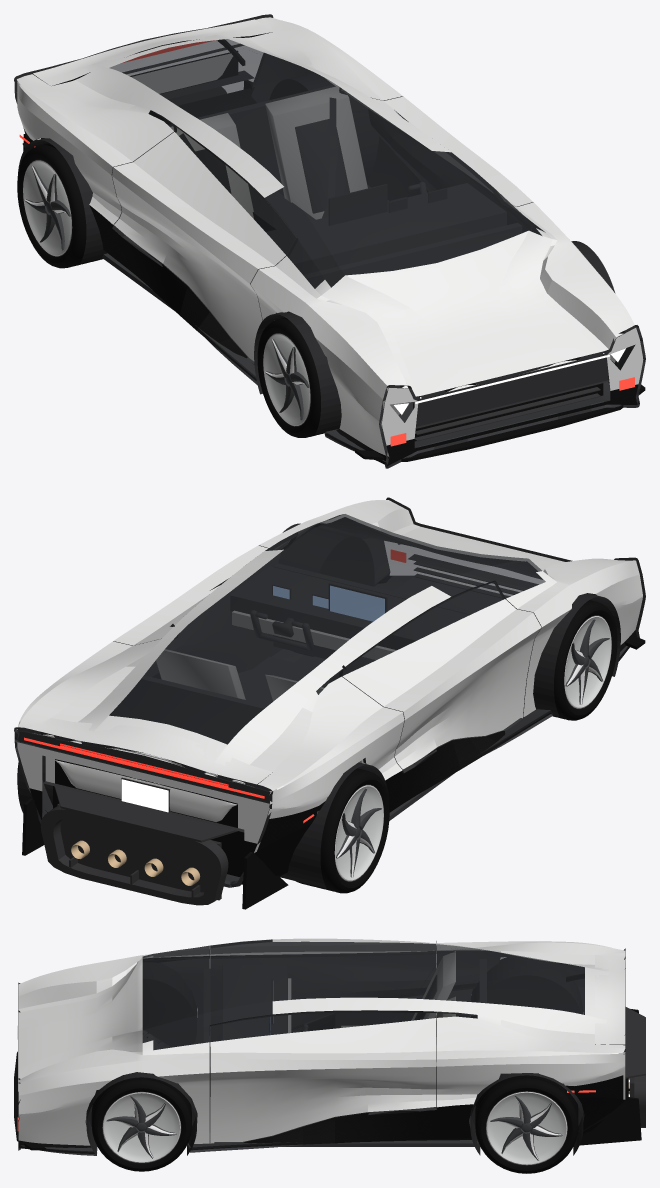
Rendered from roadster_lod1.glb.
The picture shows the model from 3 angles, top to bottom: view 1: azimuth 30°, elevation 25°; view 2: azimuth 150°, elevation 25°; view 3: azimuth 270°, elevation 25°; orthographic projection. The views are drawn at different scales.
Parts seen in each view (by area): view 1: Body, Door_R, Seat, Wheel_RR, Door_L, Wheel_FR, Wing_Blade, Light_Head; view 2: Body, Door_R, Door_L, Wheel_RR, Wheel_FR, Wing_Blade, Seat, Yoke, Light_Tail; view 3: Body, Door_L, Door_R, Wheel_RL, Wheel_FL, Wing_Blade, Seat.
Part boxes in pixels (x1,y1,x2,y2): Body: (14, 14, 645, 468); Door_R: (112, 124, 298, 361); Seat: (170, 87, 367, 219); Wheel_RR: (17, 143, 102, 268); Door_L: (342, 89, 533, 232); Wheel_FR: (257, 317, 324, 437); Wing_Blade: (33, 19, 272, 86); Light_Head: (394, 348, 625, 414); Body: (14, 497, 645, 909); Door_R: (339, 581, 541, 773); Door_L: (113, 533, 298, 678); Wheel_RR: (296, 768, 389, 893); Wheel_FR: (552, 600, 617, 720); Wing_Blade: (34, 718, 272, 786); Seat: (156, 649, 365, 763); Yoke: (250, 610, 314, 650); Light_Tail: (24, 737, 264, 798); Body: (14, 938, 645, 1155); Door_L: (210, 1011, 436, 1143); Door_R: (210, 940, 436, 1041); Wheel_RL: (475, 1075, 578, 1173); Wheel_FL: (91, 1077, 191, 1171); Wing_Blade: (595, 955, 625, 1045); Seat: (341, 951, 455, 1066).
Size of the model in its own units: 2.07 by 1.11 by 4.35.
Materials: 22 (3 with a texture image).
